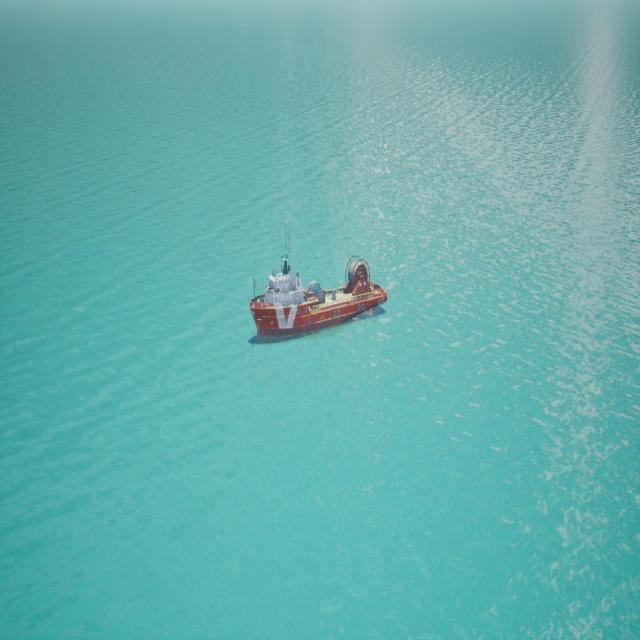tug boat: (249, 262, 388, 345)
